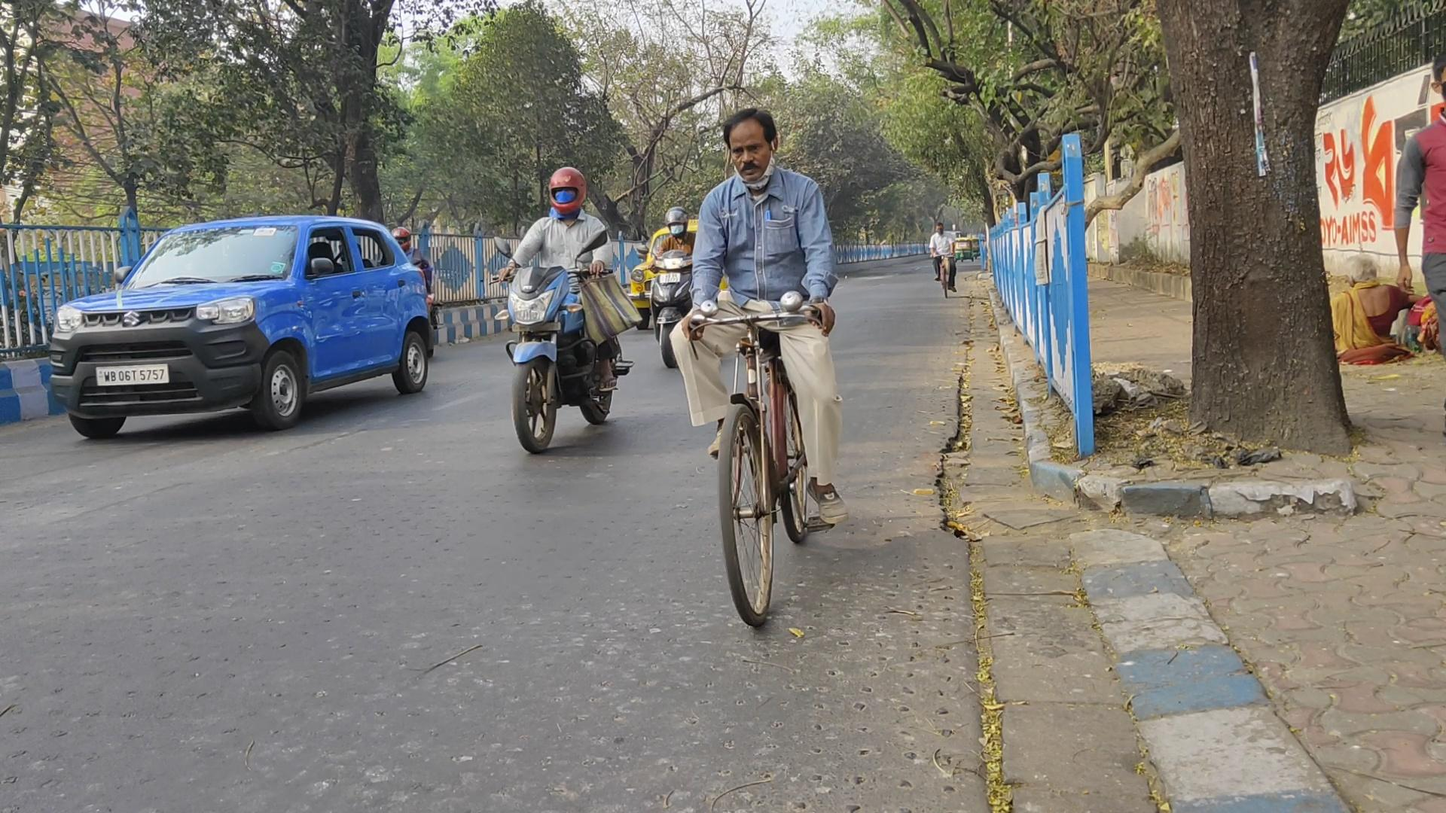Auto: (953, 237, 975, 263)
bike: (687, 109, 847, 626), (492, 166, 636, 452), (639, 207, 702, 370), (927, 223, 958, 301)
car: (50, 217, 436, 442), (629, 218, 759, 330)
